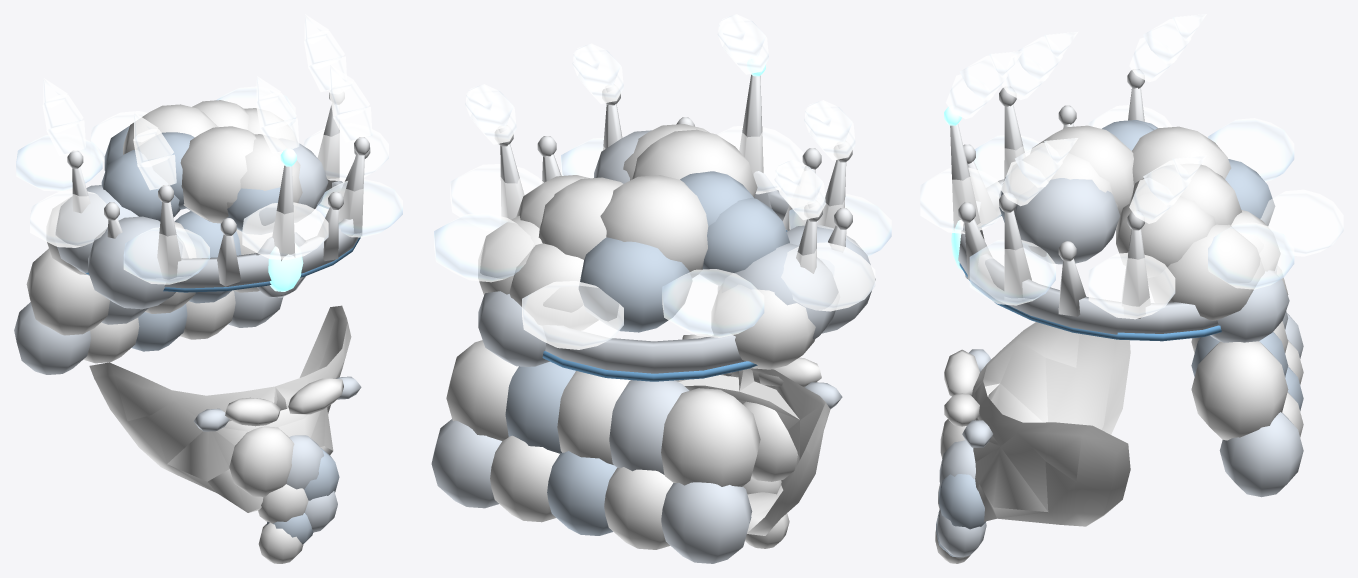
Rendered from hauvar_head.glb.
3 renders of one model, left to right at view 1: azimuth 30°, elevation 25°; view 2: azimuth 150°, elevation 25°; view 3: azimuth 270°, elevation 25°, orthographic. The views are drawn at different scales.
Visible parts, largest first — view 1: hauvar_head; view 2: hauvar_head; view 3: hauvar_head.
Boxes of the visible parts, left/top/right/bottom form: hauvar_head: left=14, top=14, right=402, bottom=563; hauvar_head: left=431, top=14, right=891, bottom=563; hauvar_head: left=920, top=14, right=1343, bottom=563.
Size of the model in its own units: 1.44 by 1.82 by 1.36.
